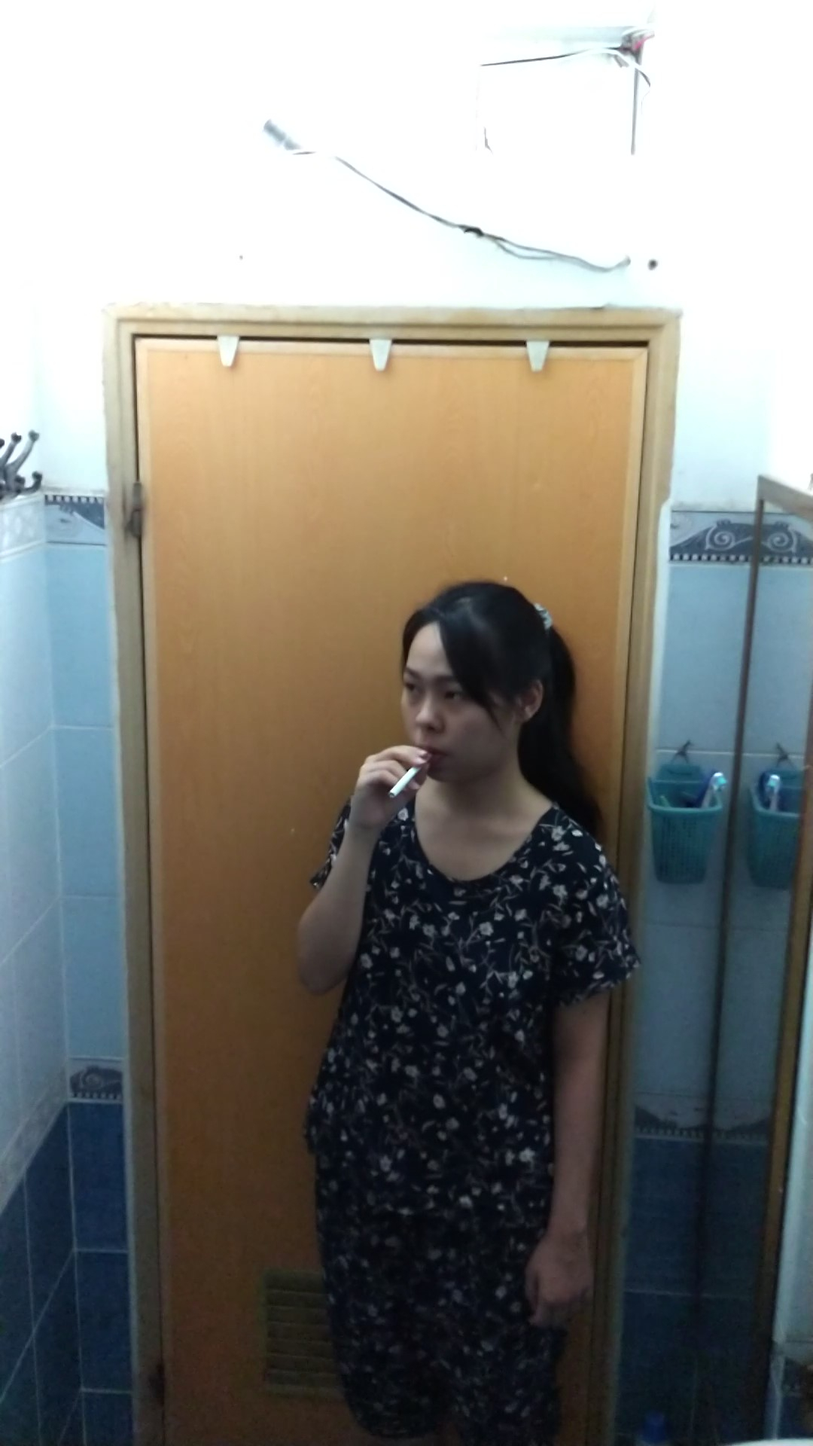cigarette: (383, 768, 419, 804)
person: (295, 566, 646, 1439)
